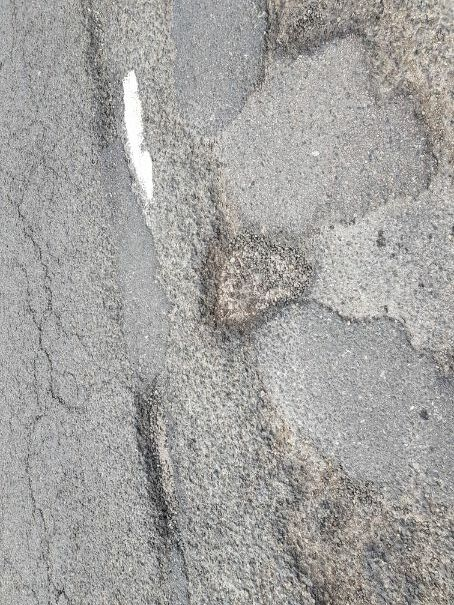pothole: (196, 216, 319, 338), (122, 382, 207, 541), (258, 1, 388, 66)
